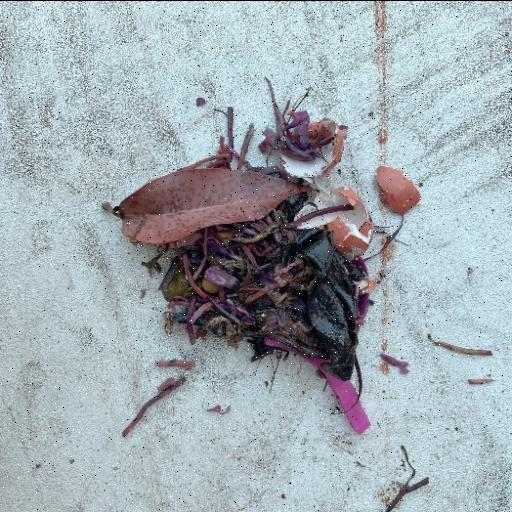Waste: (102, 76, 412, 436), (109, 164, 309, 247)
